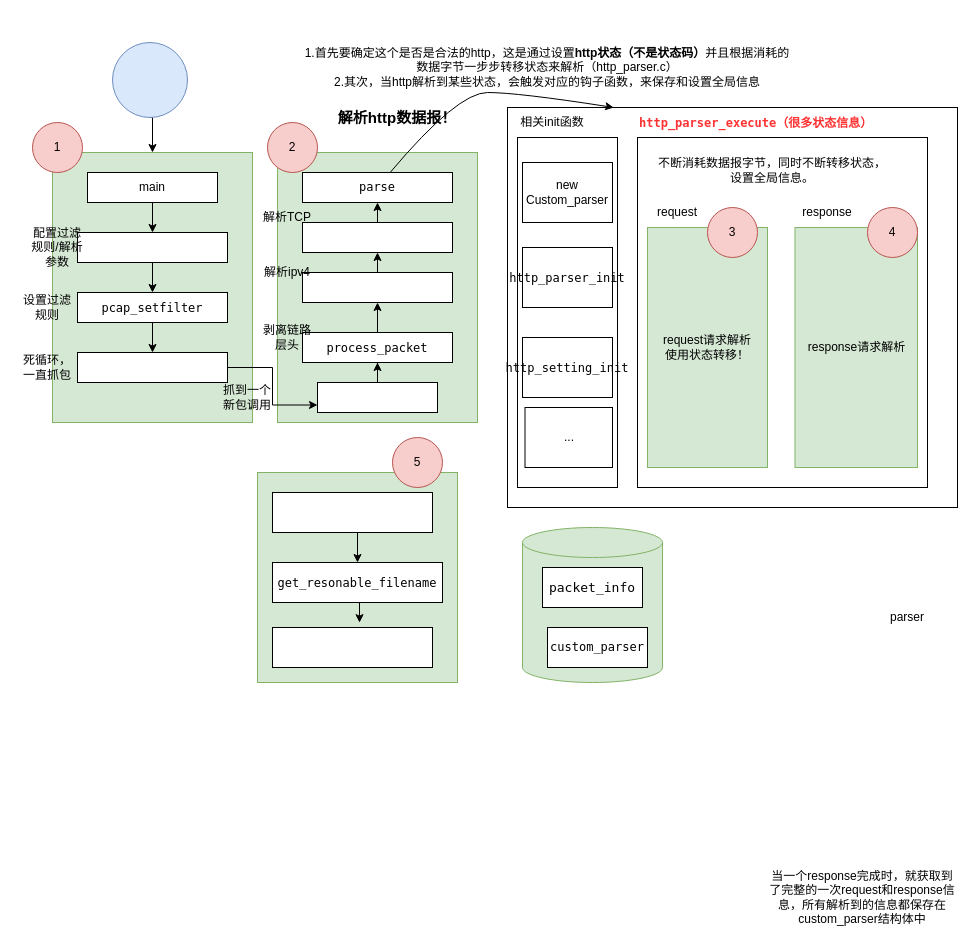
Image size: 975x943. Some labels were removed from this diagram. Here are the shapes that lost their labels. From the top down, the centre of each, then its label:
the point at 150,80: 程序起始
the point at 152,247: init_capture_config
the point at 377,237: process_tcp
the point at 377,287: process_ipv4
the point at 152,367: pcap_loop
the point at 377,397: pcap_callback
the point at 352,512: save_http_request
the point at 352,647: 解析信息输出到文件
